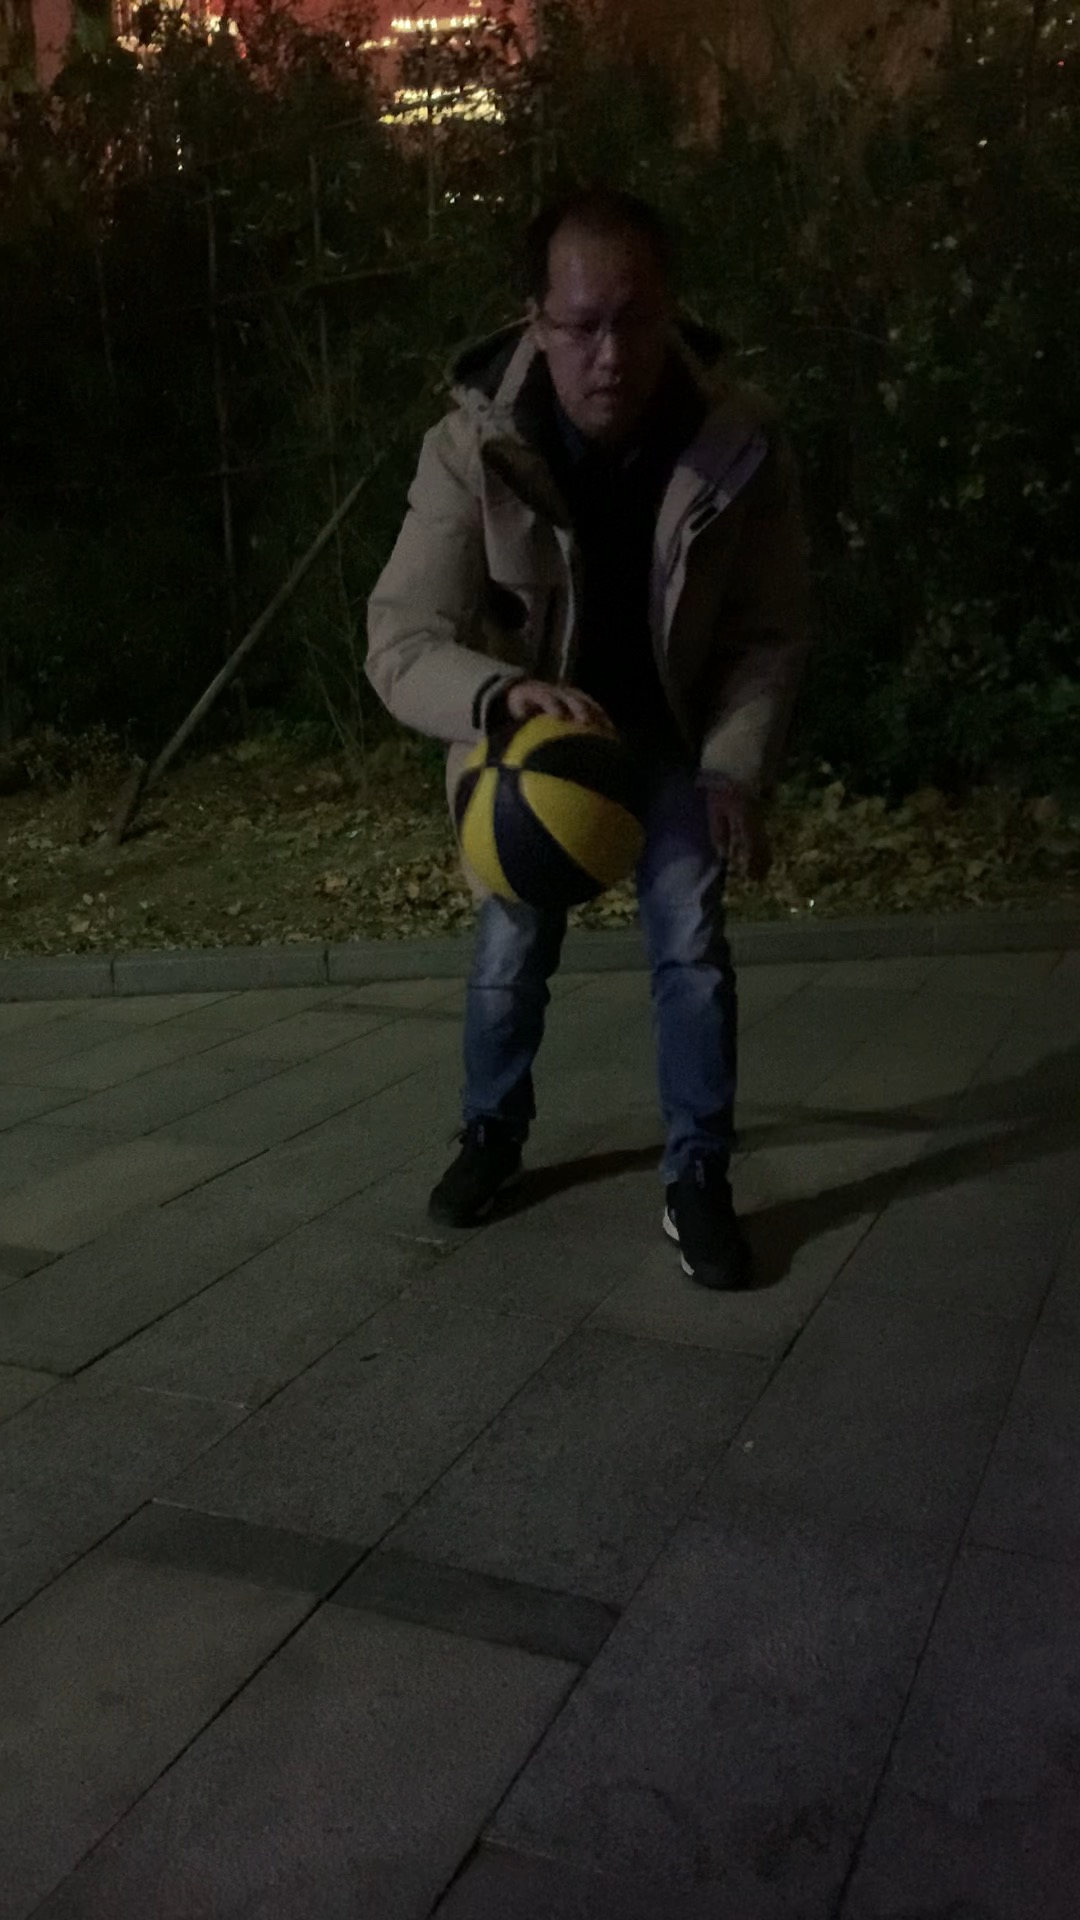ball: (450, 717, 646, 913)
